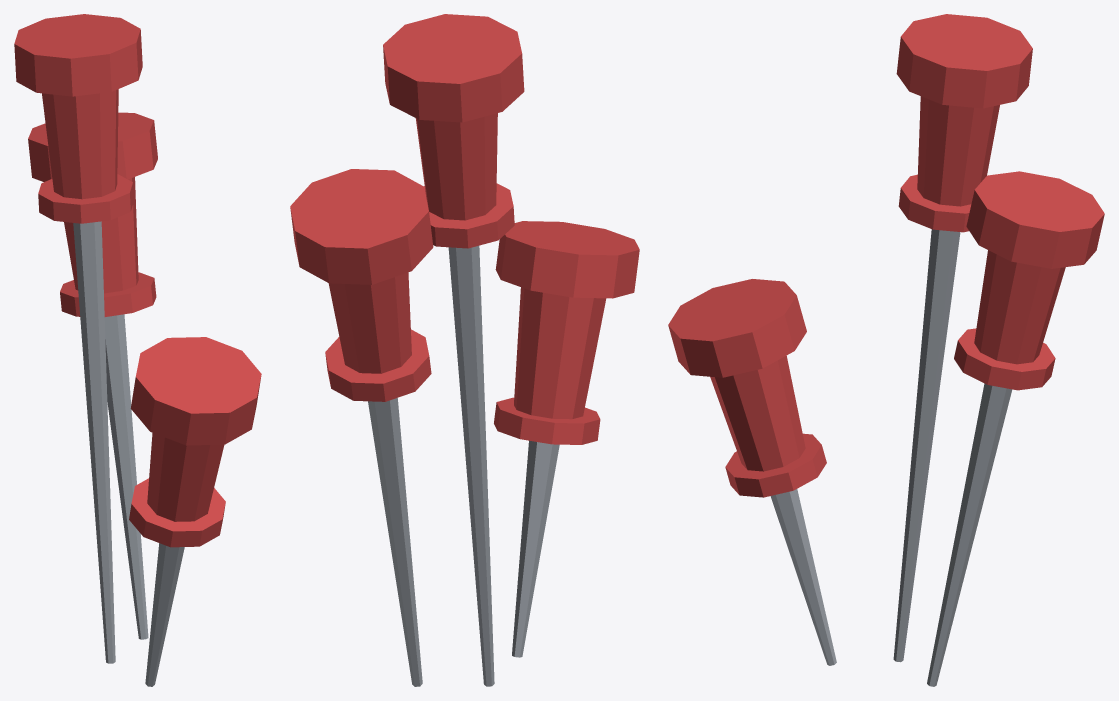
File: thumbtacks_m0_2.glb
3 renders of one model, left to right at view 1: azimuth 30°, elevation 25°; view 2: azimuth 150°, elevation 25°; view 3: azimuth 270°, elevation 25°, orthographic. The views are drawn at different scales.
Visible parts, largest first — view 1: thumbtacks_m0_2_mesh; view 2: thumbtacks_m0_2_mesh; view 3: thumbtacks_m0_2_mesh.
Part boxes in pixels (x1=…): thumbtacks_m0_2_mesh: x1=14, y1=14, x2=261, y2=686; thumbtacks_m0_2_mesh: x1=290, y1=14, x2=639, y2=686; thumbtacks_m0_2_mesh: x1=668, y1=14, x2=1104, y2=686.
Bounding box in the file's own units: 0.2222 × 0.8303 × 0.526.
